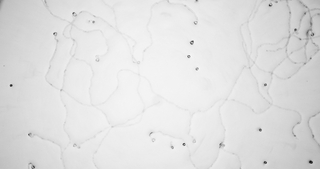germinated: (93, 54, 102, 63), (148, 134, 156, 143), (26, 131, 35, 139), (51, 30, 58, 40), (189, 136, 197, 144), (29, 161, 37, 169), (192, 16, 199, 25), (132, 59, 141, 66), (169, 142, 175, 152), (70, 11, 77, 19), (309, 29, 315, 37), (267, 0, 272, 8), (70, 142, 76, 147)
nongerminated: (188, 39, 195, 46), (262, 81, 268, 88), (256, 126, 263, 132), (262, 159, 268, 166), (181, 140, 187, 147), (185, 53, 191, 59), (308, 159, 314, 165), (8, 82, 14, 88), (194, 65, 201, 70), (293, 26, 298, 31)
